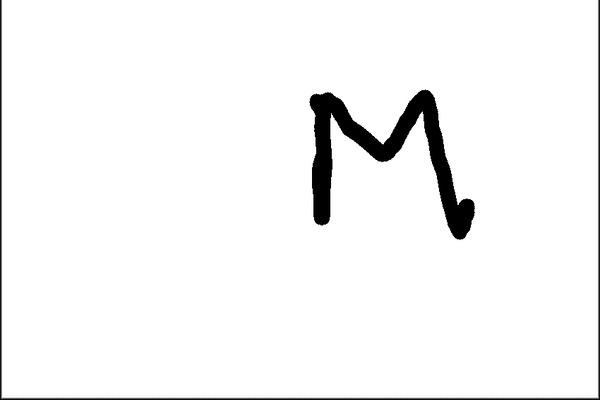M: (308, 82, 481, 240)
